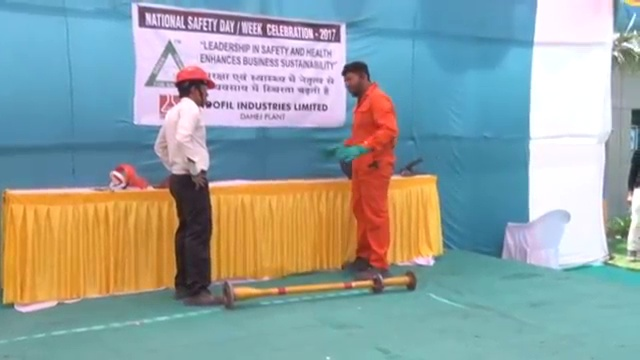helmet: (174, 64, 217, 92)
helmet_off: (342, 62, 369, 97)
helmet_on: (173, 63, 218, 112)
person: (149, 63, 225, 307), (341, 61, 400, 279)
